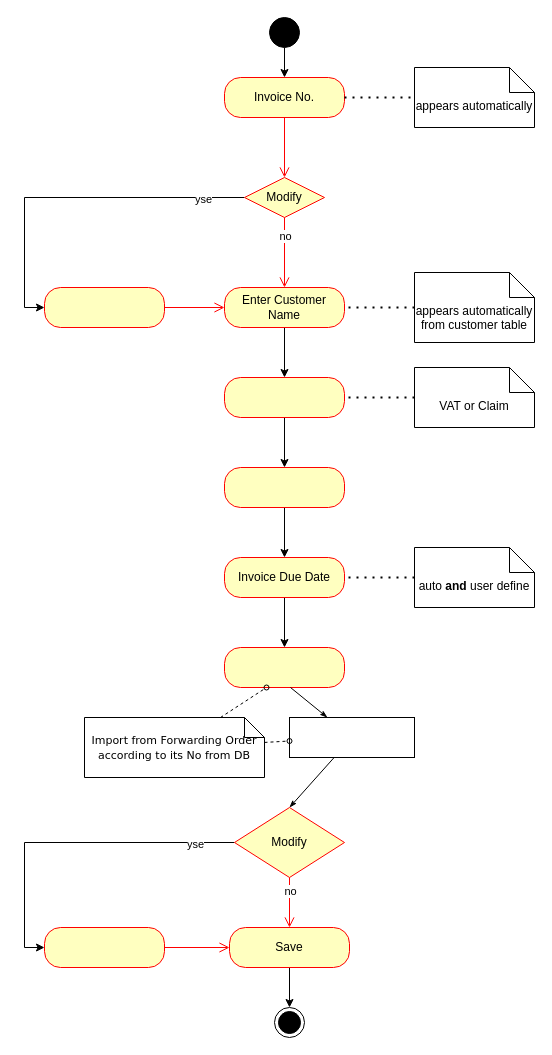
This 552x1055 diagram has some shape labels left out. The shapes that lost their labels are listed below. From the top down, each one's box as (x1, y1, x2, y2) in pixels, then its label:
(44, 286, 164, 328): Modify Invoice No.
(224, 376, 344, 418): Invoice Type
(224, 466, 344, 508): Date Of Invoice
(224, 646, 344, 688): Auto fill for Forwarding Order details
(288, 716, 414, 758): Forwarding Order
(44, 926, 164, 968): Modify Forwarding Order details
